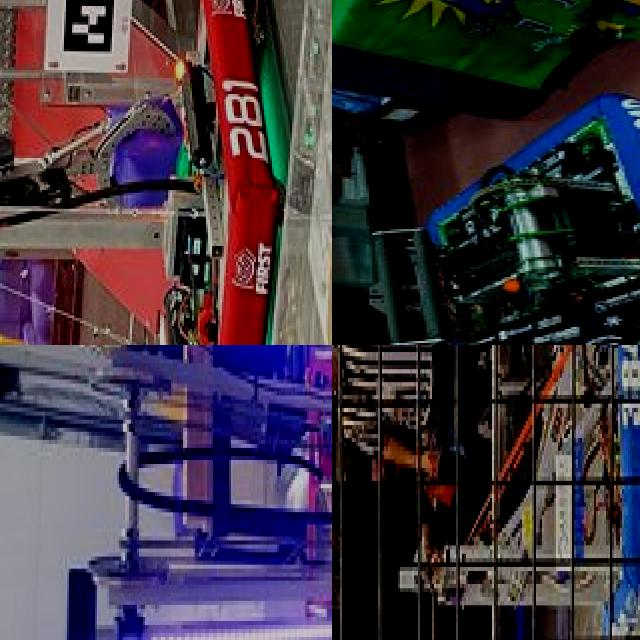FRC-Robots: (0, 0, 300, 345), (54, 345, 332, 640), (349, 69, 640, 345), (385, 345, 640, 640)
